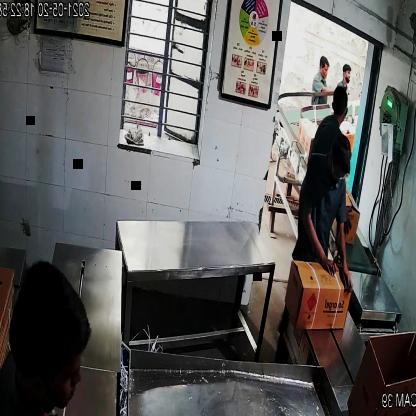goggles: (328, 163, 349, 182)
